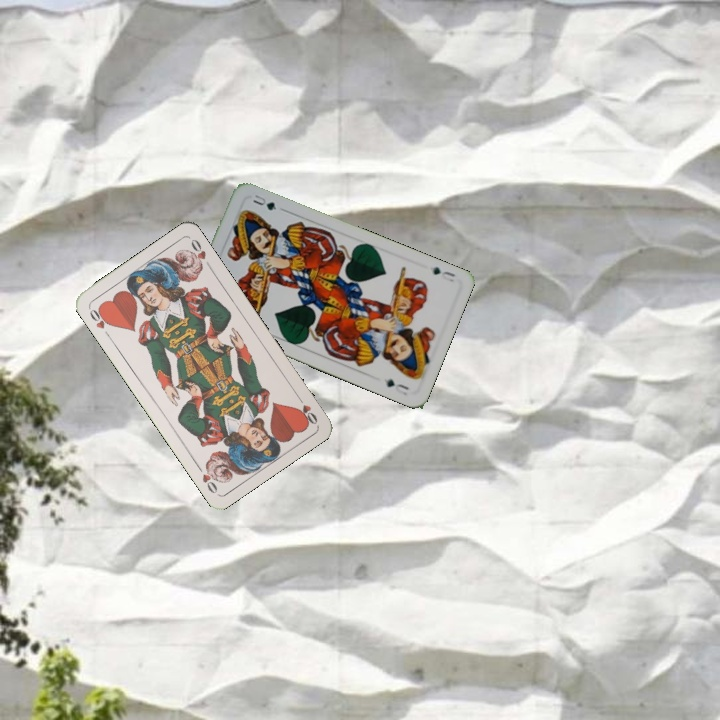GU: (429, 263, 458, 285)
HO: (85, 304, 113, 340), (292, 391, 320, 427)
